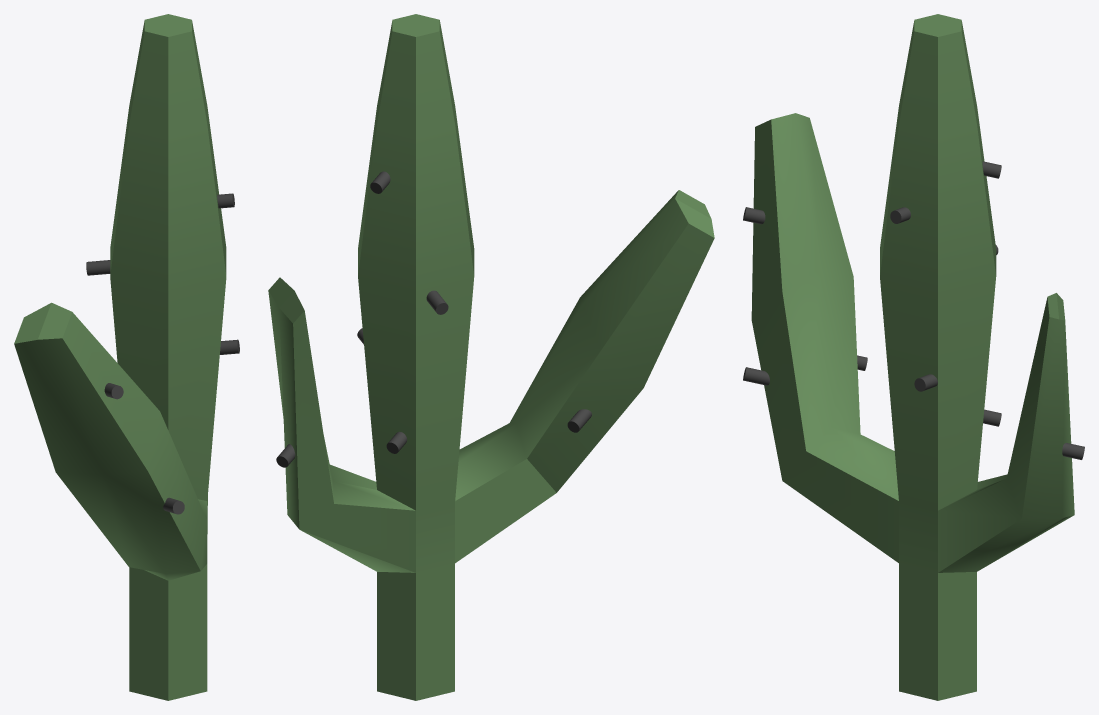
File: west_ca02.fbx
3 views of the same model, side by side, from view 1: azimuth 30°, elevation 25°; view 2: azimuth 150°, elevation 25°; view 3: azimuth 270°, elevation 25° (orthographic).
Parts seen in each view (by area): view 1: pCylinder50; view 2: pCylinder50; view 3: pCylinder50.
Part boxes in pixels (x1,y1,x2,y2): pCylinder50: (14, 14, 239, 700); pCylinder50: (268, 14, 714, 700); pCylinder50: (743, 14, 1084, 700).
Size of the model in its own units: 3.2 by 6.3 by 2.97.
